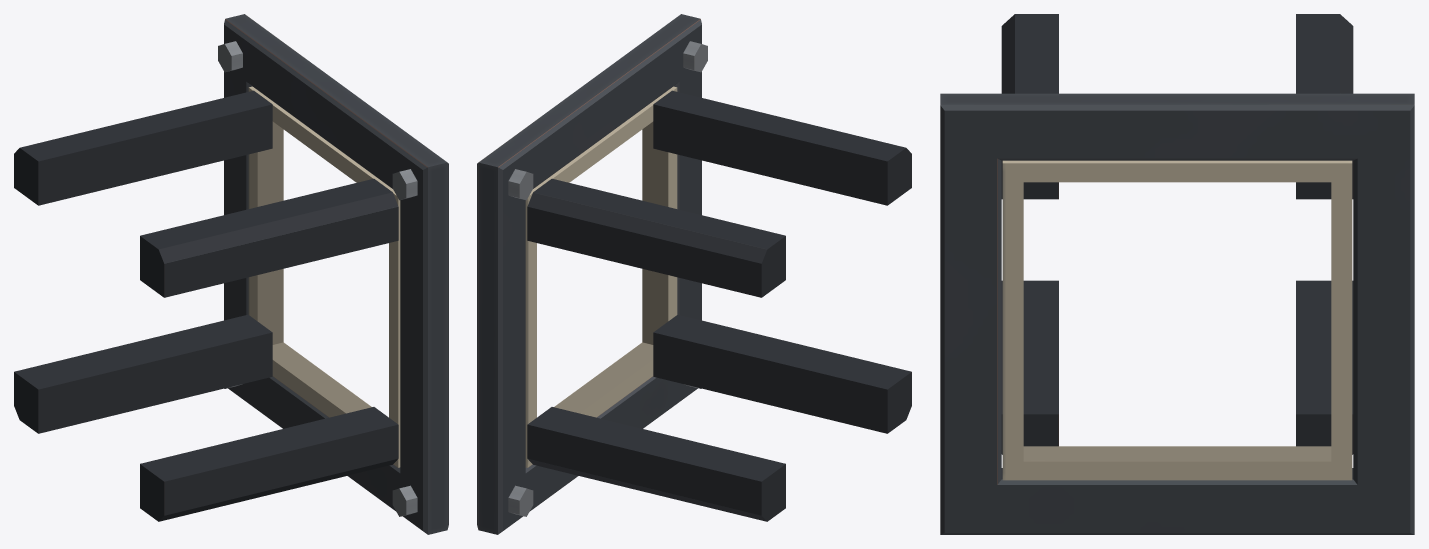
The model's file is half_port_east.obj.
3 views of the same model, side by side, from view 1: azimuth 30°, elevation 25°; view 2: azimuth 150°, elevation 25°; view 3: azimuth 270°, elevation 25° (orthographic). The views are drawn at different scales.
Visible parts, largest first — view 1: half_port_rails, half_port_port, half_port_port_lining, half_port_port_nuts; view 2: half_port_rails, half_port_port, half_port_port_lining, half_port_port_nuts; view 3: half_port_port, half_port_port_lining, half_port_rails.
Part boxes in pixels (box(x1,y1,x2,y2)): half_port_rails: box(14, 90, 398, 521); half_port_port: box(224, 14, 448, 534); half_port_port_lining: box(248, 86, 400, 467); half_port_port_nuts: box(218, 41, 417, 516); half_port_rails: box(527, 90, 911, 521); half_port_port: box(477, 14, 701, 534); half_port_port_lining: box(525, 86, 677, 467); half_port_port_nuts: box(508, 41, 707, 516); half_port_port: box(940, 93, 1414, 534); half_port_port_lining: box(1002, 160, 1352, 480); half_port_rails: box(1001, 14, 1353, 454).
Size of the model in its own units: 0.5 by 0.675 by 0.675.
